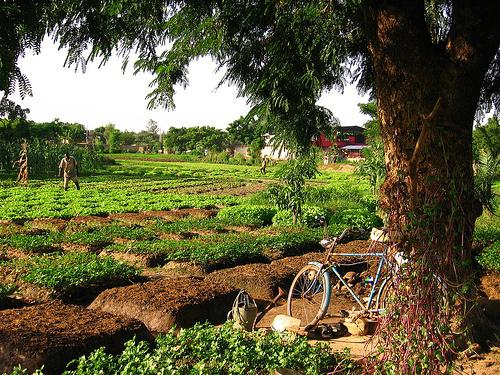car: (288, 229, 450, 333)
person: (58, 149, 82, 192)
